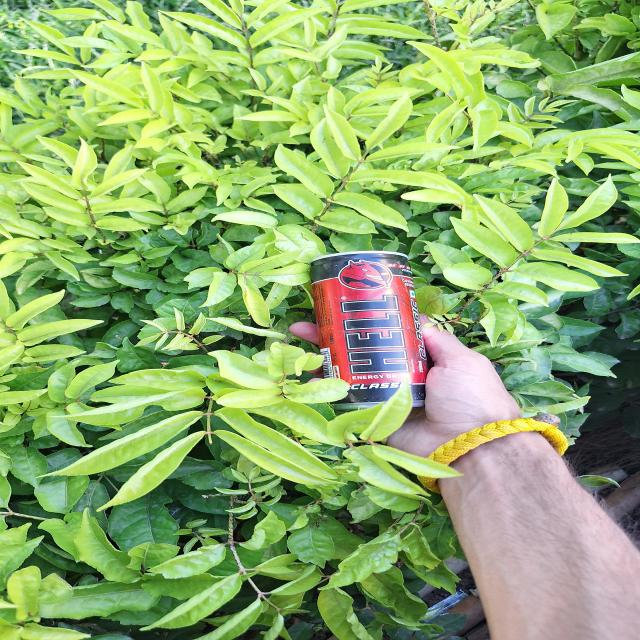Hell Classic: (305, 253, 434, 411)
